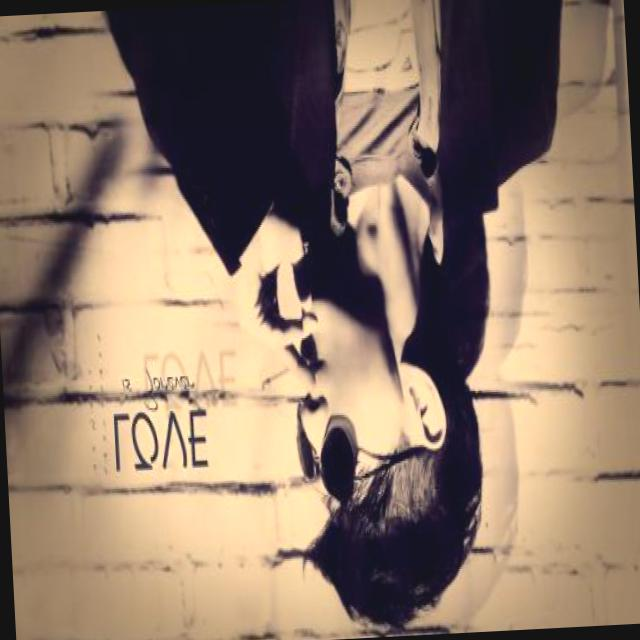smoke: (257, 354, 306, 396)
